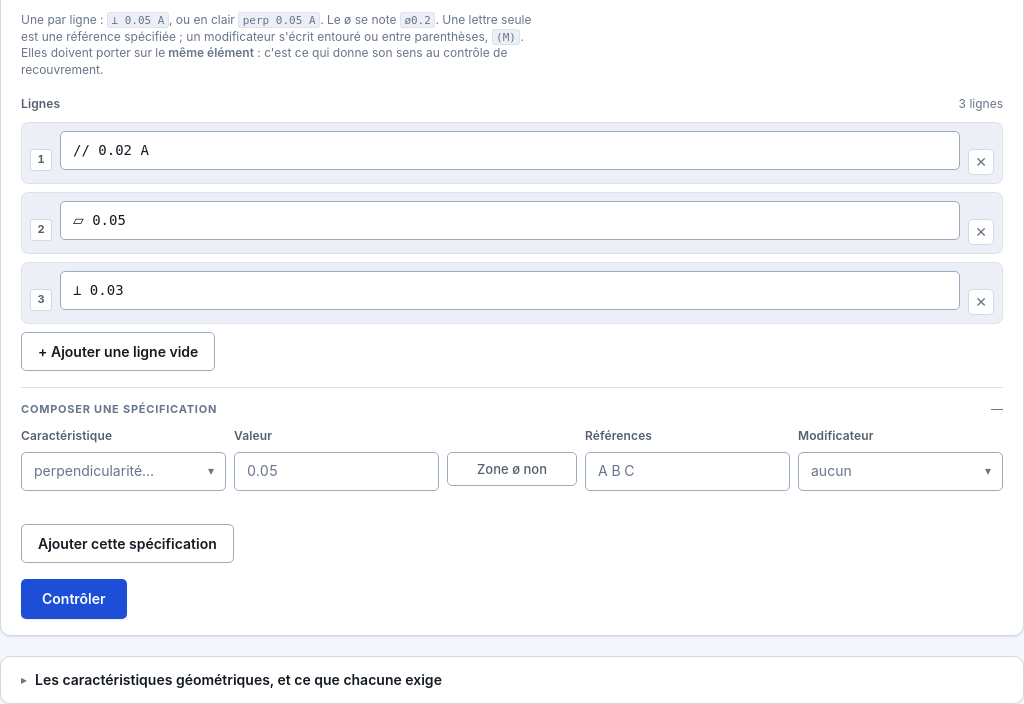
écran de tolérancement géométrique › affiche chaque spécification sous sa désignation normalisée
(page scrolled)
What coordinates should you click on to do the following:
click the 4th button named "Contrôler"
I would click on:
 (74, 599)
Its box is [21,580,127,619].
(page scrolled)
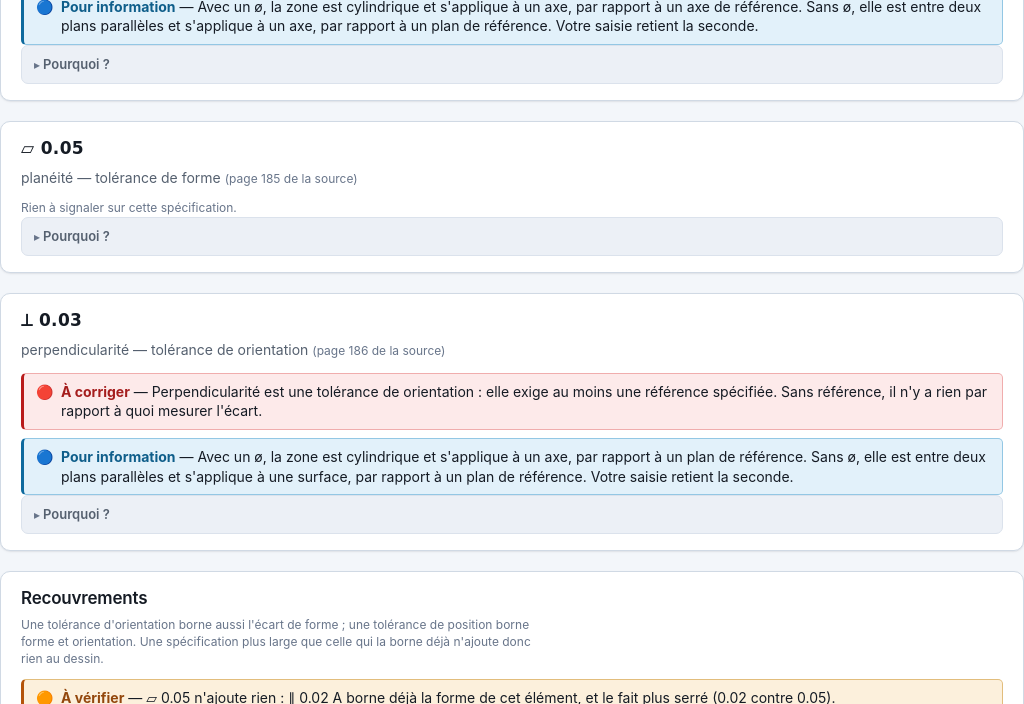
Now the 3rd heading named "⏥ 0.05" is shown, box [21,138,84,158]
Now the 5th heading named "⟂ 0.03" is shown, box [21,310,82,330]
